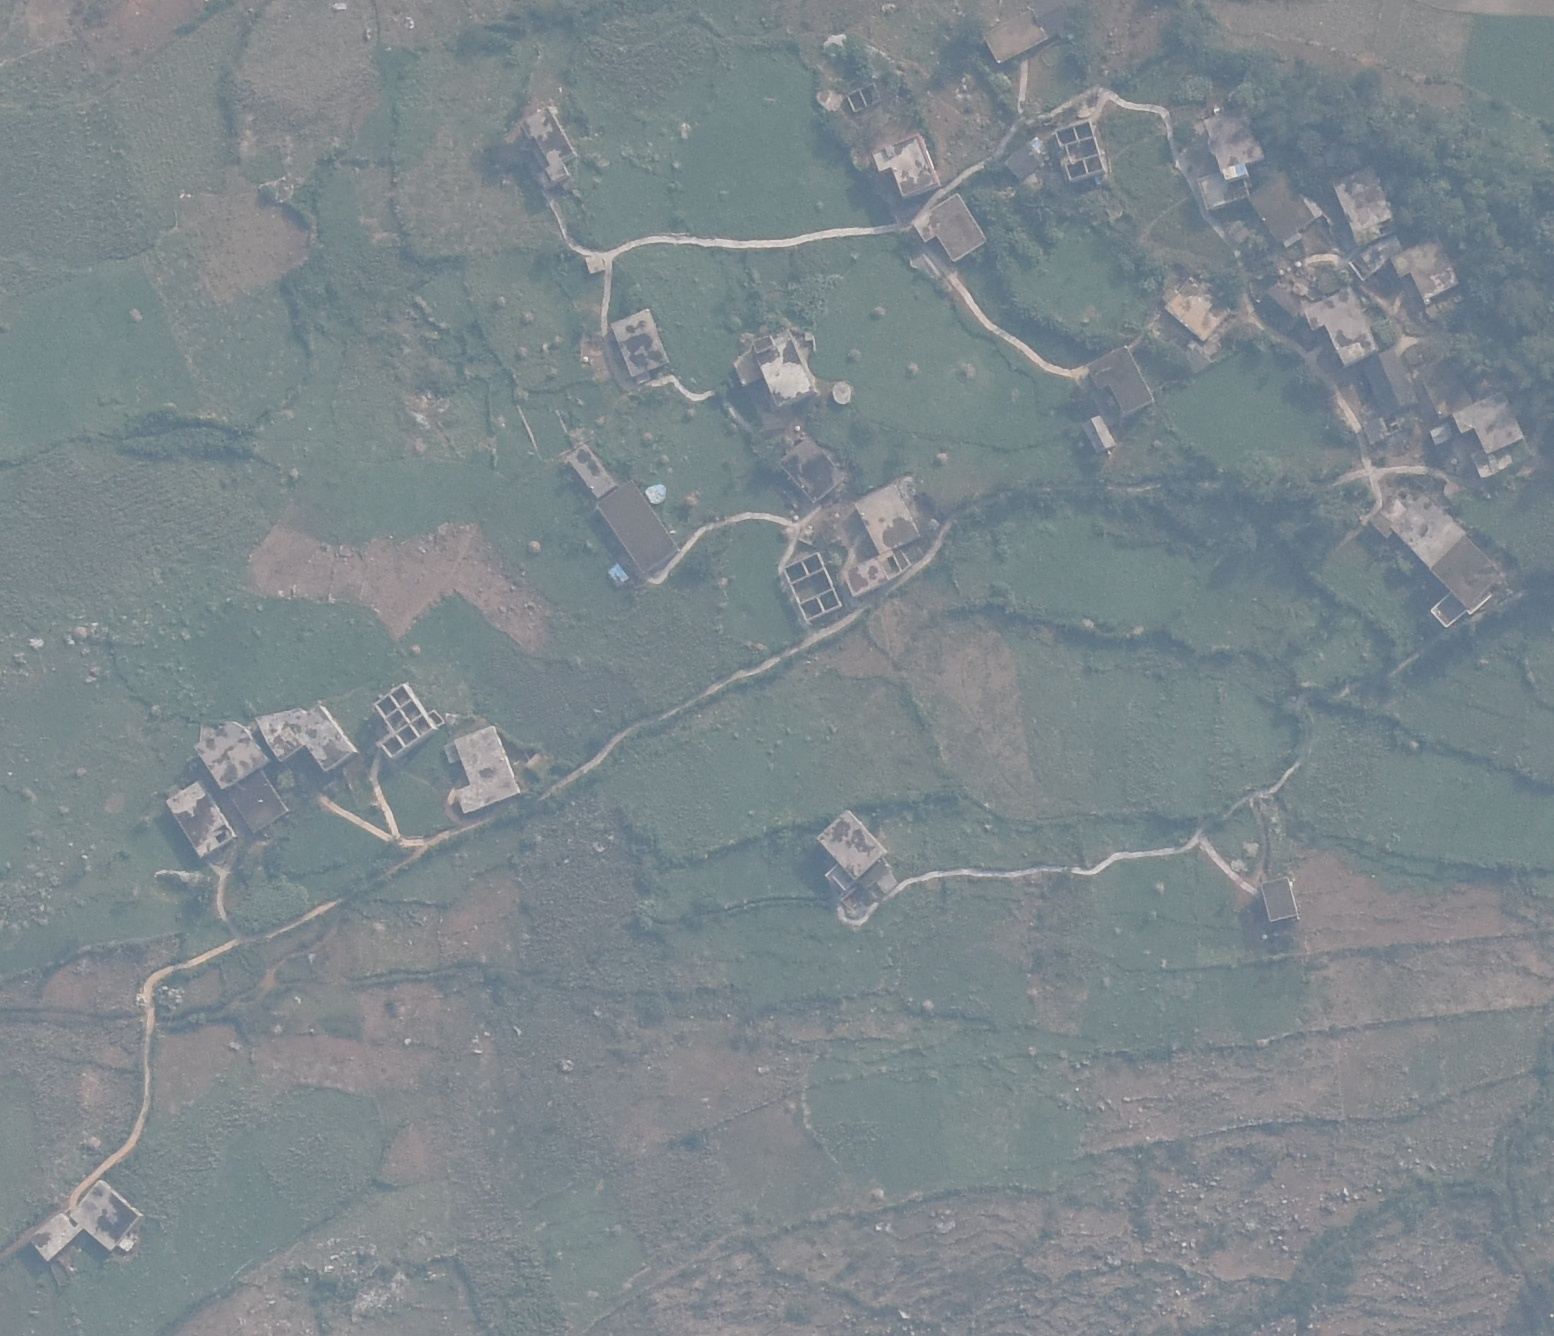building: (1369, 486, 1501, 628), (26, 1177, 144, 1265), (822, 807, 918, 910), (593, 480, 687, 575), (1335, 168, 1415, 276), (255, 700, 359, 774), (1202, 100, 1270, 211), (161, 778, 237, 870), (451, 723, 525, 813), (519, 102, 591, 192), (1304, 288, 1380, 371), (189, 712, 266, 793), (367, 682, 447, 759), (748, 324, 819, 404), (984, 1, 1076, 63), (1086, 340, 1163, 412), (1162, 272, 1238, 344), (852, 484, 932, 548), (1243, 170, 1313, 243), (868, 131, 943, 197), (610, 308, 675, 382), (1450, 389, 1526, 449), (914, 200, 988, 262), (1391, 235, 1458, 304), (777, 433, 843, 501), (780, 552, 844, 620), (1051, 120, 1119, 182), (229, 770, 292, 834), (1365, 352, 1421, 414), (563, 439, 618, 500), (1417, 361, 1477, 414), (842, 550, 903, 595), (1255, 875, 1302, 922), (1003, 140, 1045, 180), (1262, 281, 1300, 324), (1081, 416, 1119, 456), (1360, 416, 1391, 444), (1428, 422, 1456, 447), (581, 252, 609, 275)
well: (831, 378, 858, 406)
